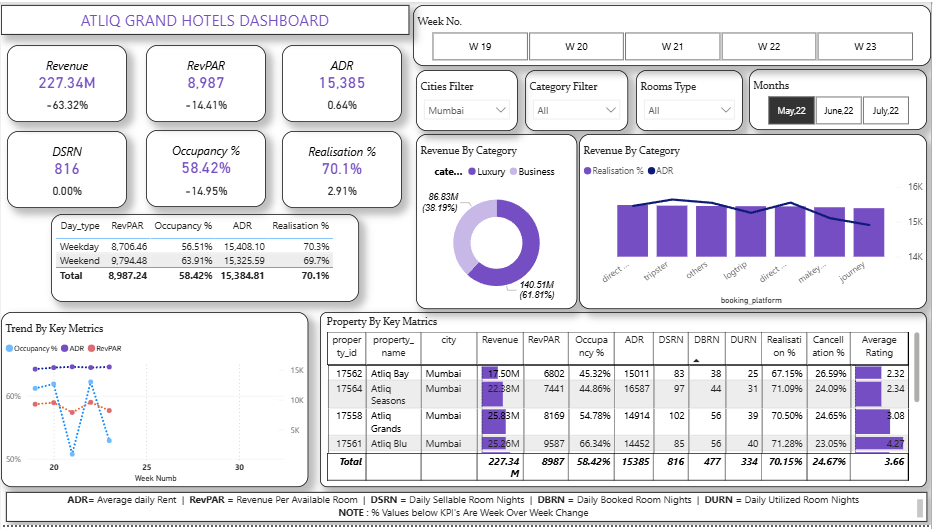

Layout of this report page (visuals, bound fields, positions):
{"tool":"powerbi","page":{"name":"Page 1","canvas":[1280,720],"ordinal":0},"visuals":[{"type":"tableEx","title":"Property By Key Matrics","fields":{"Values":["dim_hotels.property_id","dim_hotels.property_name","dim_hotels.city","Key_measures.Revenue","Key_measures.RevPAR(Revenue Per Available Room)","Key_measures.Occupancy %","Key_measures.ADR(Average daily rate)","Key_measures.DSRN(sellable)","Key_measures.DBRN(Daily Booked Night Rooms)","Key_measures.DURN","Key_measures.Realisation %","Key_measures.Cancellation %"]},"box":[439.1,426.7,835.4,240.9],"z":0},{"type":"slicer","title":"Category Filter","fields":{"Values":["dim_hotels.category"]},"box":[721.2,93.6,141.8,84],"z":1000},{"type":"slicer","title":"Rooms Type","fields":{"Values":["dim_rooms.room_class"]},"box":[874,93.6,147.3,84],"z":2000},{"type":"slicer","title":"Months","fields":{"Values":["dim_date.mmm yy"]},"box":[1029.5,92.2,245,84],"z":3000},{"type":"slicer","title":"Week No.","fields":{"Values":["dim_date.week no"]},"box":[567.1,4.1,712.9,84],"z":4000},{"type":"cardVisual","fields":{"Data":["Key_measures.Revenue"]},"box":[8.3,59.2,165,106],"z":5000},{"type":"donutChart","title":"Revenue By Category","fields":{"Y":["Key_measures.Revenue"],"Category":["dim_hotels.category"]},"box":[571.2,181.7,221.6,240.9],"z":6000},{"type":"lineChart","title":"Trend By Key Metrics","fields":{"Y":["Key_measures.Occupancy %"],"Y2":["Key_measures.ADR","Key_measures.RevPAR"],"Category":["dim_date.Week Numb"]},"box":[0,426.7,422.5,240.9],"z":7000},{"type":"lineStackedColumnComboChart","title":"Revenue By Category","fields":{"Category":["fact_bookings.booking_platform"],"Y":["Key_measures.Realisation %"],"Y2":["Key_measures.ADR(Average daily rate)"]},"box":[795.5,181.7,479,240.9],"z":8000},{"type":"textbox","box":[6.9,674.4,1267.6,41.3],"z":9000},{"type":"textbox","box":[0,4.1,561.5,41.3],"z":10000},{"type":"slicer","title":"Cities Filter","fields":{"Values":["dim_hotels.city"]},"box":[571.2,93.6,140,84],"z":11000},{"type":"card","fields":{"Values":["Key_measures.Revenue WOW Change %"]},"box":[28.9,112.9,123.9,60.6],"z":12000},{"type":"tableEx","fields":{"Values":["dim_date.Day_type","Key_measures.RevPAR","Key_measures.Occupancy %","Key_measures.ADR","Key_measures.Realisation %"]},"box":[68.8,291.8,423.9,121.1],"z":13000},{"type":"cardVisual","fields":{"Data":["Key_measures.DSRN"]},"box":[8.3,177.5,165,106],"z":14000},{"type":"cardVisual","fields":{"Data":["Key_measures.Occupancy %"]},"box":[199.6,176.2,165.2,106],"z":15000},{"type":"cardVisual","fields":{"Data":["Key_measures.Realisation %"]},"box":[386.8,177.5,165.2,106],"z":16000},{"type":"cardVisual","fields":{"Data":["Key_measures.RevPAR"]},"box":[199.6,59.2,165.2,106],"z":17000},{"type":"cardVisual","fields":{"Data":["Key_measures.ADR"]},"box":[386.8,59.2,165,106],"z":18000},{"type":"card","fields":{"Values":["Key_measures.Realisation WoW change %"]},"box":[407.4,231.2,123.9,60.6],"z":19000},{"type":"card","fields":{"Values":["Key_measures.Occupancy WoW change %"]},"box":[220.2,231.2,123.9,60.6],"z":20000},{"type":"card","fields":{"Values":["Key_measures.DSRN WoW change %"]},"box":[28.9,231.2,123.9,60.6],"z":21000},{"type":"card","fields":{"Values":["Key_measures.ADR WoW change %"]},"box":[407.4,112.9,123.9,60.6],"z":22000},{"type":"card","fields":{"Values":["Key_measures.Revpar WoW change %"]},"box":[220.2,112.9,123.9,60.6],"z":23000}]}

Visuals, with their boxes in screenshot pixels (x1, y1, x2, y2), scaled from the page's 1280x720 canvas onto the 933x529 screenshot:
"Property By Key Matrics" tableEx: x1=320, y1=314, x2=929, y2=491
"Category Filter" slicer: x1=526, y1=69, x2=629, y2=130
"Rooms Type" slicer: x1=637, y1=69, x2=744, y2=130
"Months" slicer: x1=750, y1=68, x2=929, y2=129
"Week No." slicer: x1=413, y1=3, x2=932, y2=65
cardVisual - Key_measures.Revenue: x1=6, y1=43, x2=126, y2=121
"Revenue By Category" donutChart: x1=416, y1=133, x2=578, y2=310
"Trend By Key Metrics" lineChart: x1=0, y1=314, x2=308, y2=491
"Revenue By Category" lineStackedColumnComboChart: x1=580, y1=133, x2=929, y2=310
textbox: x1=5, y1=495, x2=929, y2=526
textbox: x1=0, y1=3, x2=409, y2=33
"Cities Filter" slicer: x1=416, y1=69, x2=518, y2=130
card - Key_measures.Revenue WOW Change %: x1=21, y1=83, x2=111, y2=127
tableEx - dim_date.Day_type x Key_measures.RevPAR: x1=50, y1=214, x2=359, y2=303
cardVisual - Key_measures.DSRN: x1=6, y1=130, x2=126, y2=208
cardVisual - Key_measures.Occupancy %: x1=145, y1=129, x2=266, y2=207
cardVisual - Key_measures.Realisation %: x1=282, y1=130, x2=402, y2=208
cardVisual - Key_measures.RevPAR: x1=145, y1=43, x2=266, y2=121
cardVisual - Key_measures.ADR: x1=282, y1=43, x2=402, y2=121
card - Key_measures.Realisation WoW change %: x1=297, y1=170, x2=387, y2=214
card - Key_measures.Occupancy WoW change %: x1=161, y1=170, x2=251, y2=214
card - Key_measures.DSRN WoW change %: x1=21, y1=170, x2=111, y2=214
card - Key_measures.ADR WoW change %: x1=297, y1=83, x2=387, y2=127
card - Key_measures.Revpar WoW change %: x1=161, y1=83, x2=251, y2=127
